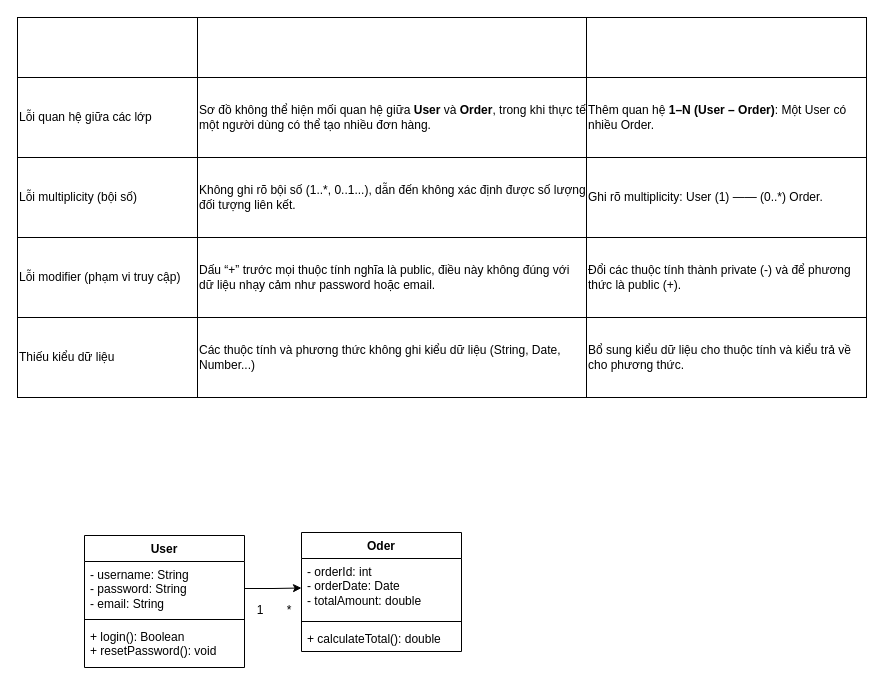
Image size: 884x688. Some labels were removed from this diagram. Each missing label, with the centre of its shape:
Cách sửa: [726,47]
Loại lỗi: [107,47]
Mô tả chi tiết: [391,47]
